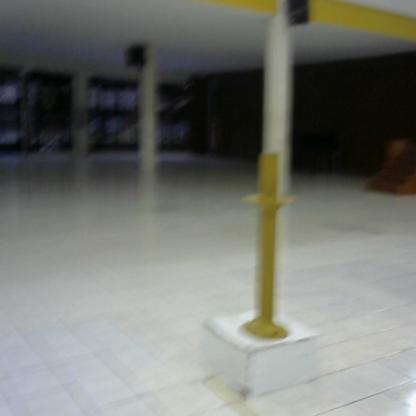pole: (241, 150, 299, 352)
